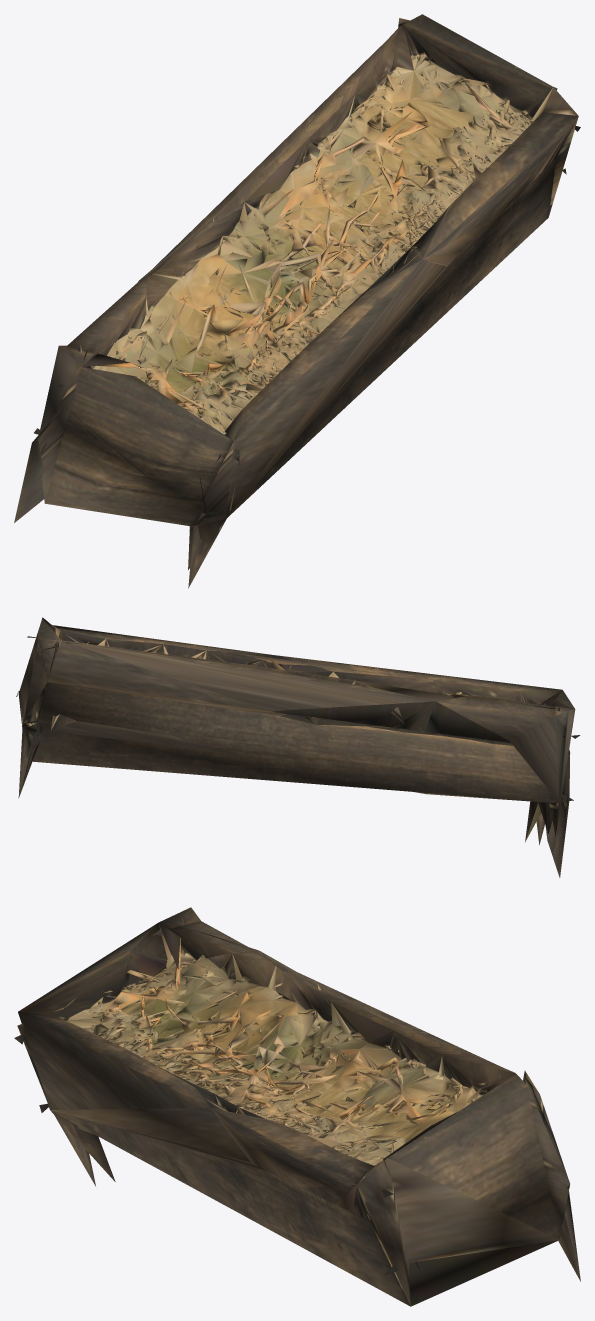
Rendered from straight-feeding-trough-pixal3d-runtime.glb.
3 views of the same model, one above another, from view 1: azimuth 30°, elevation 25°; view 2: azimuth 150°, elevation 25°; view 3: azimuth 270°, elevation 25° (orthographic). The views are drawn at different scales.
Visible parts, largest first — view 1: geometry_0; view 2: geometry_0; view 3: geometry_0.
Boxes of the visible parts, box(x1,y1,x2,y2) form: geometry_0: box(14, 14, 580, 588); geometry_0: box(16, 617, 580, 877); geometry_0: box(14, 907, 580, 1306).
Bounding box in the file's own units: 1.31 × 0.6314 × 0.9881.
1 material, 1 textured.
